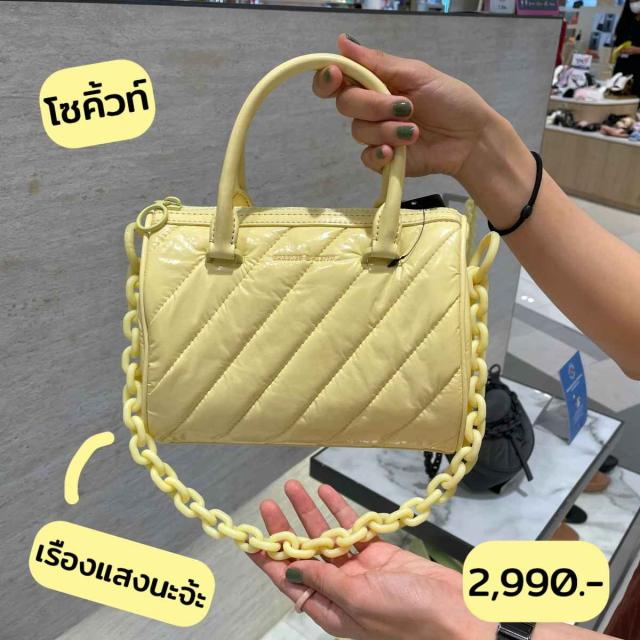handbag: (118, 183, 504, 478)
